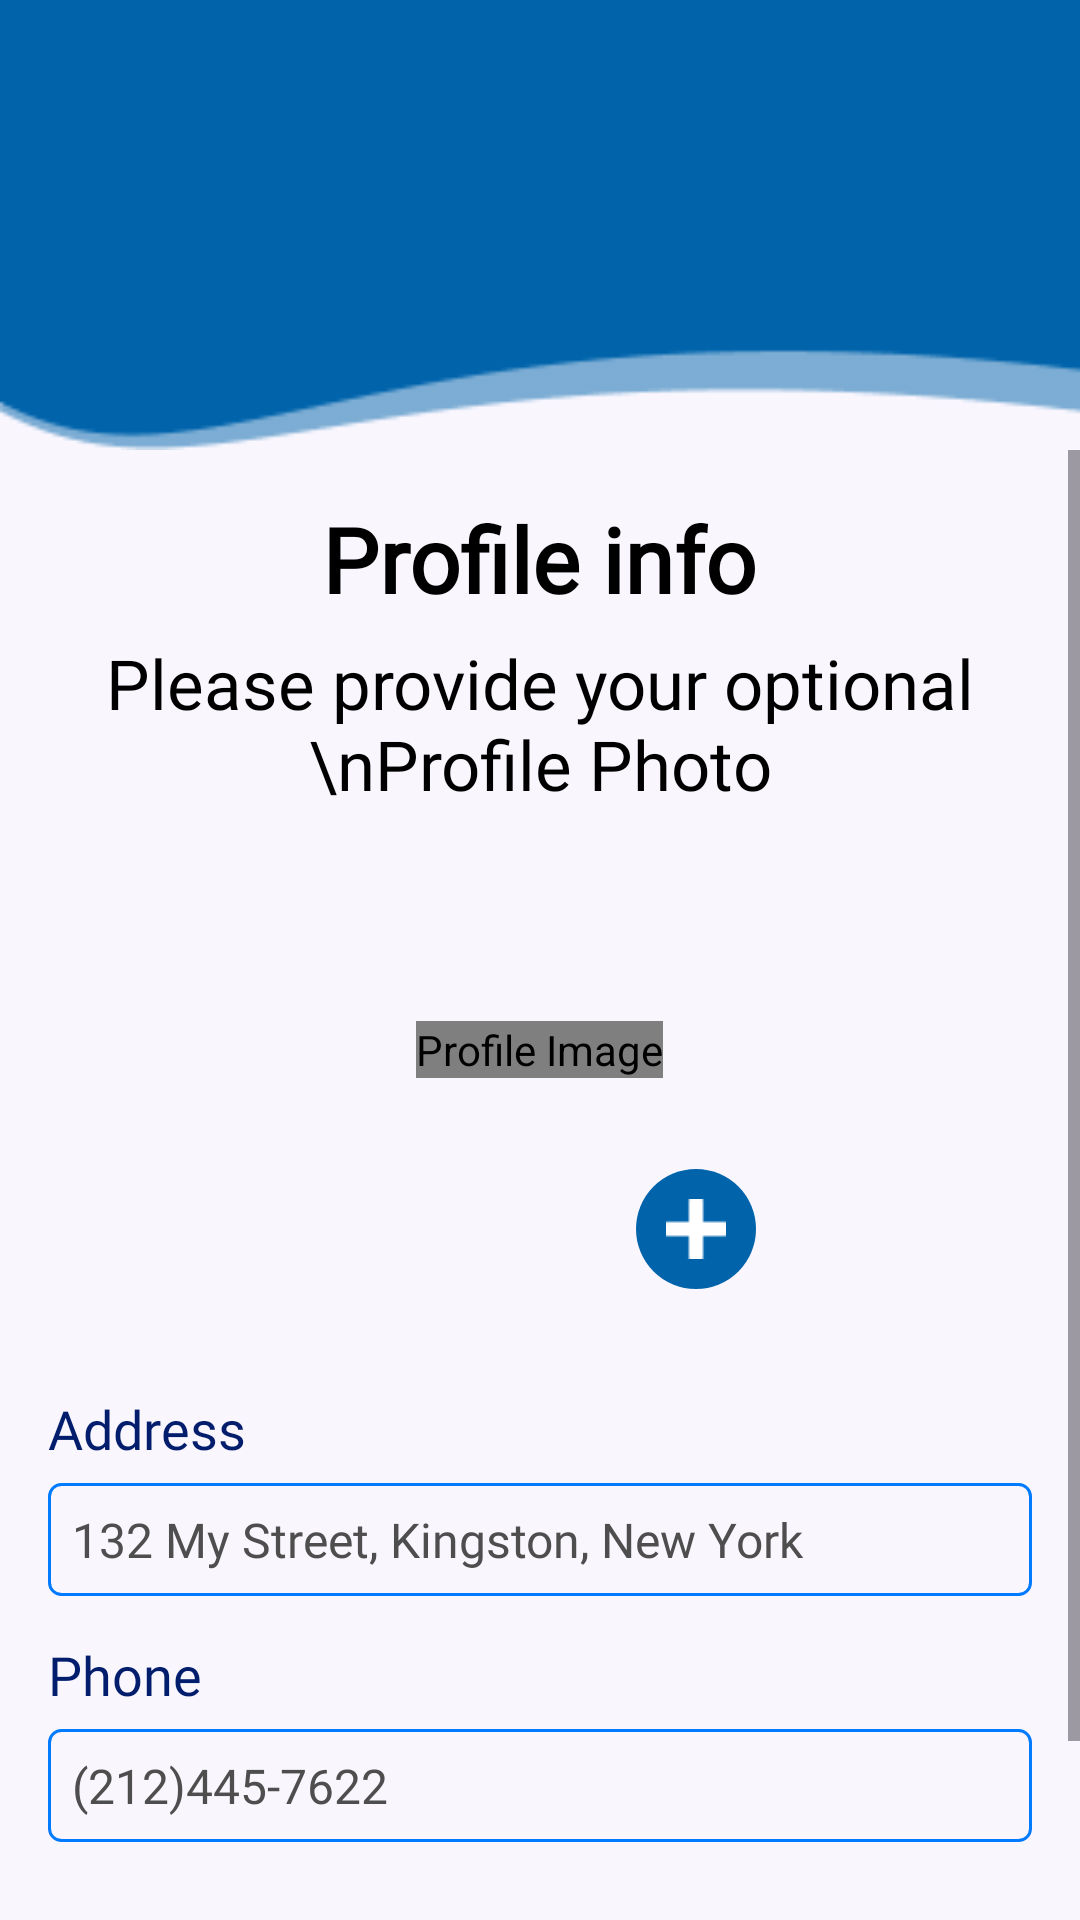

Named icons in this screenshot (1080 x 1920) and their bounding boxes, (left=x1, top=y1, right=x2, bottom=y2):
add butt: (left=666, top=1199, right=726, bottom=1259)
